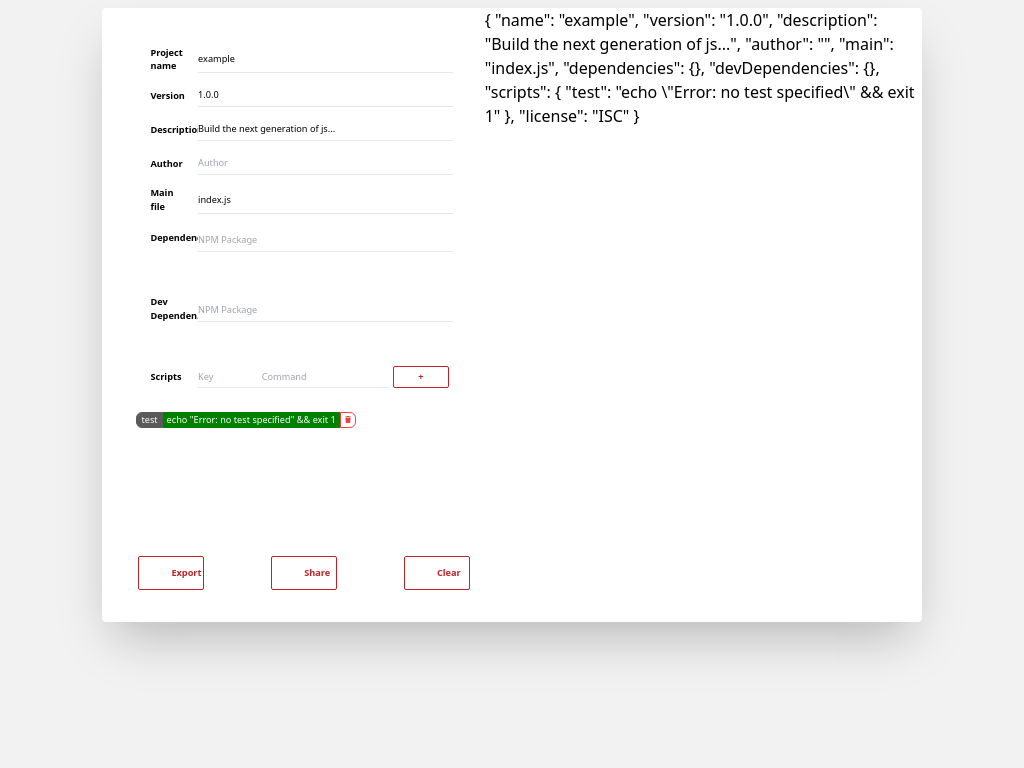
Scenario: Container Test › When adding script in form › should add script to scripts list and text editor content
Type "test-jest" into the field with test id "script-key" at (230, 377), box x1=198 y1=366 x2=262 y2=388
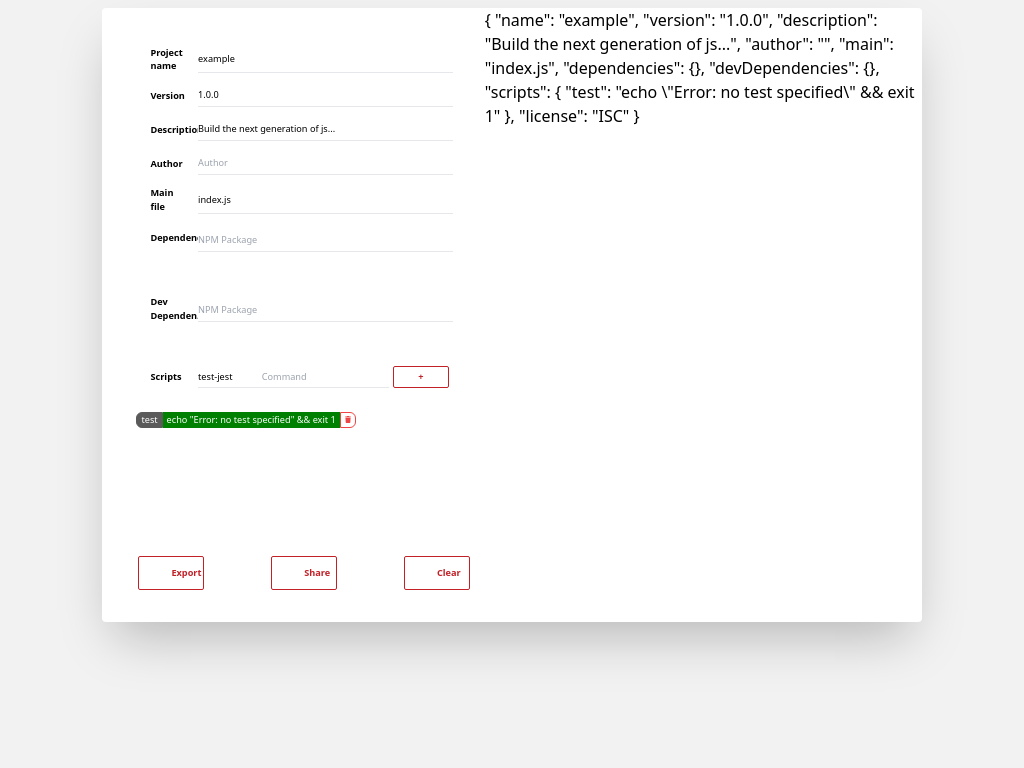
Type "jest" into the field with test id "script-value" at (325, 377), box x1=262 y1=366 x2=389 y2=388
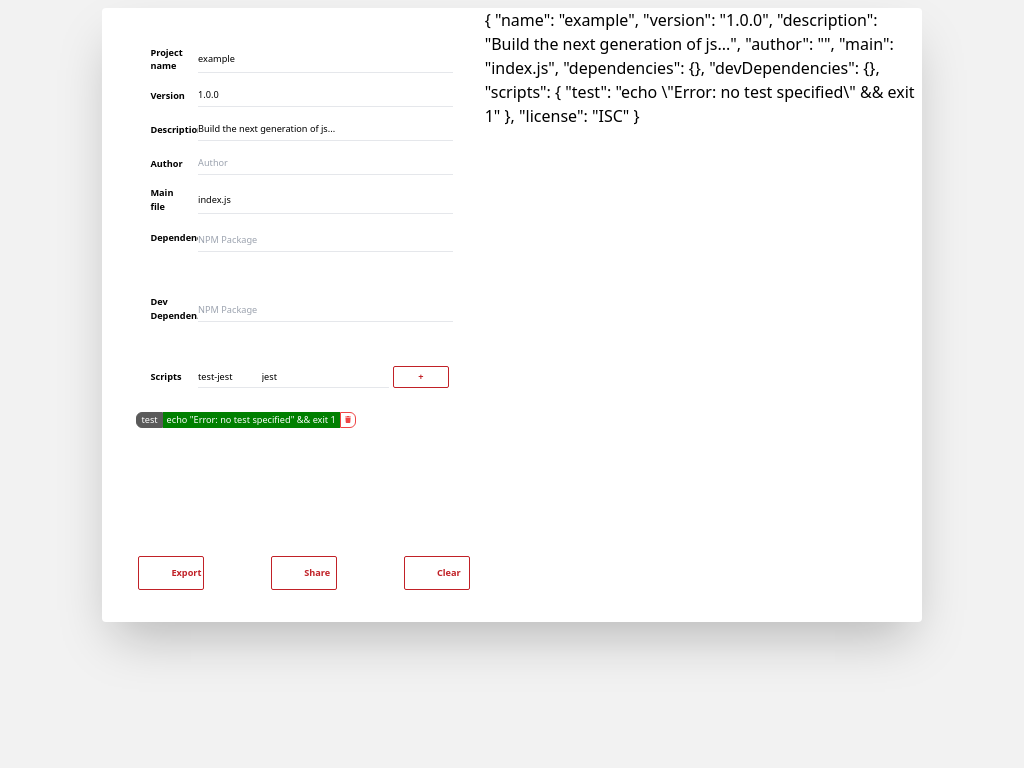
Click the button with test id "script-add-btn" at (421, 377), box x1=393 y1=366 x2=449 y2=388
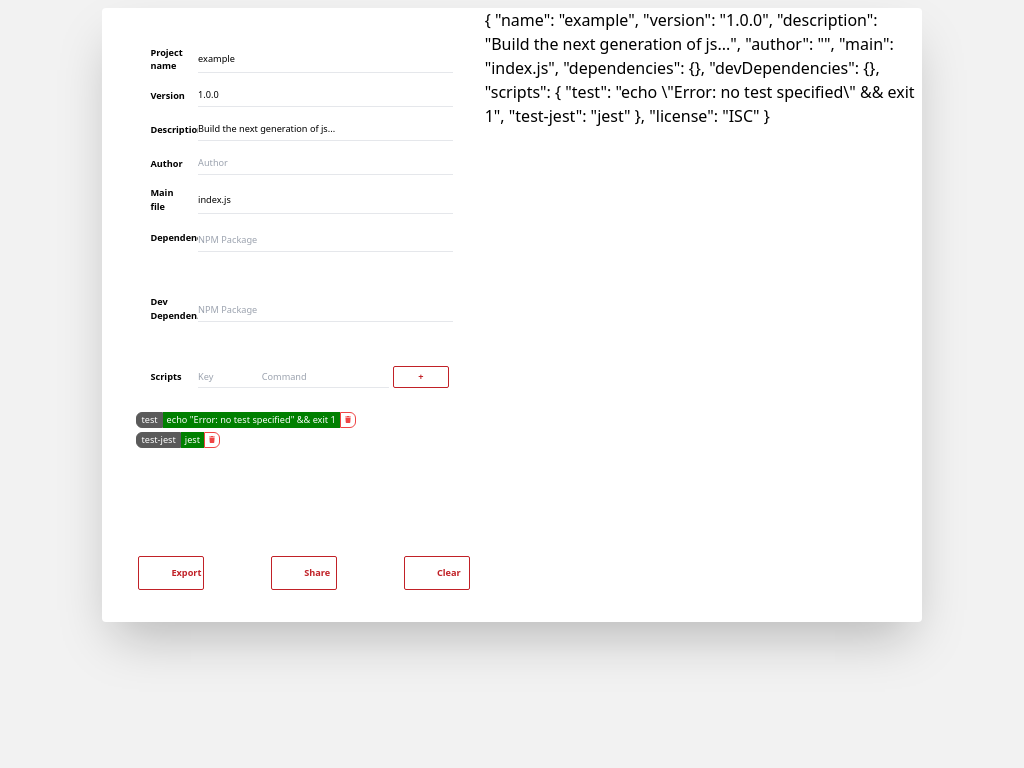
Expected: the element with test id "scripts-list" shows "test-jest", x1=141 y1=433 x2=176 y2=446
Expected: the element with test id "scripts-list" shows "jest", x1=185 y1=433 x2=200 y2=446
